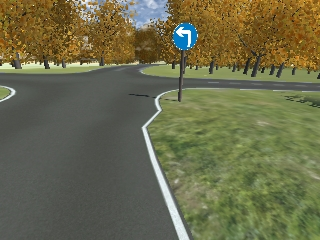left: (172, 23, 196, 51)
